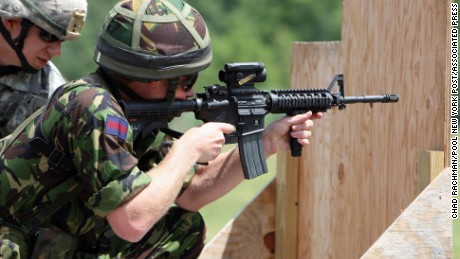Rifle: (114, 59, 402, 181)
